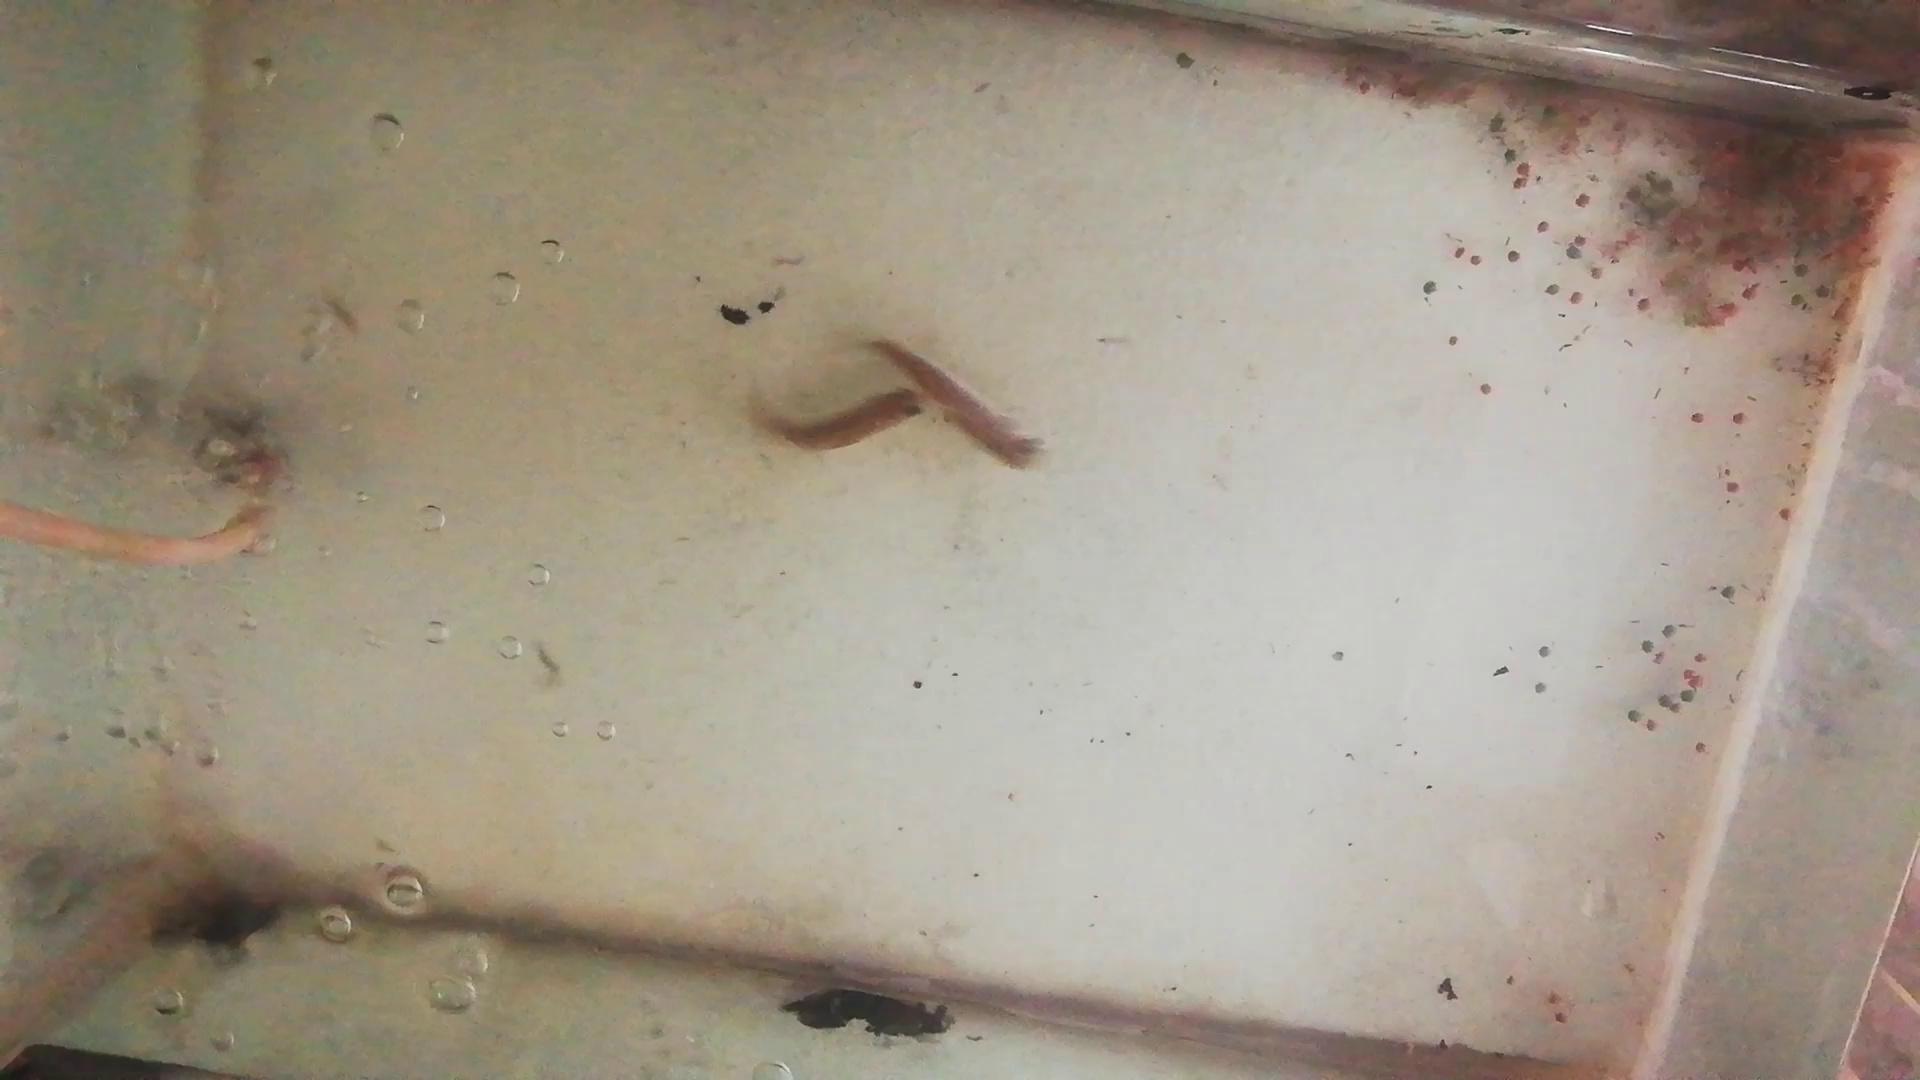fish: (868, 328, 1044, 471), (754, 393, 930, 458)
